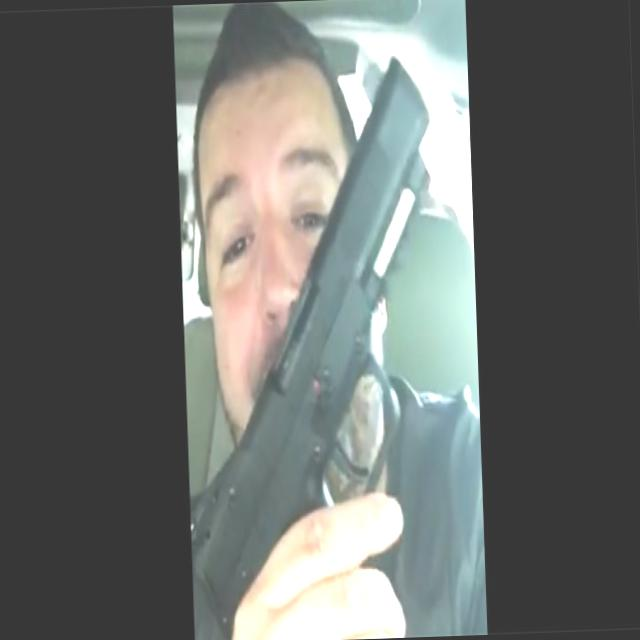handgun: (175, 54, 452, 626)
